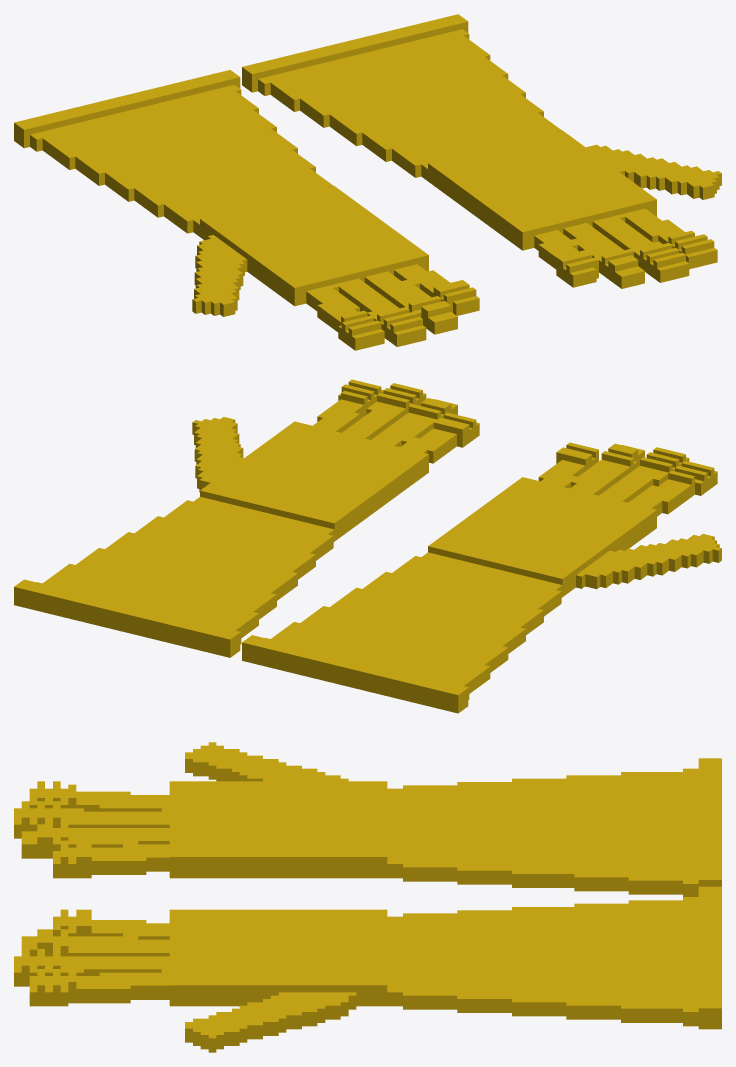
Rendered from gloves_rubber.glb.
The picture shows the model from 3 angles, top to bottom: view 1: azimuth 30°, elevation 25°; view 2: azimuth 150°, elevation 25°; view 3: azimuth 270°, elevation 25°; orthographic projection. The views are drawn at different scales.
Parts seen in each view (by area): view 1: gloves_rubber:compound; view 2: gloves_rubber:compound; view 3: gloves_rubber:compound.
Part boxes in pixels (x1,y1,x2,y2): gloves_rubber:compound: (14, 14, 721, 350); gloves_rubber:compound: (14, 379, 721, 713); gloves_rubber:compound: (14, 742, 721, 1052).
Size of the model in its own units: 0.36 by 0.012 by 0.364.
